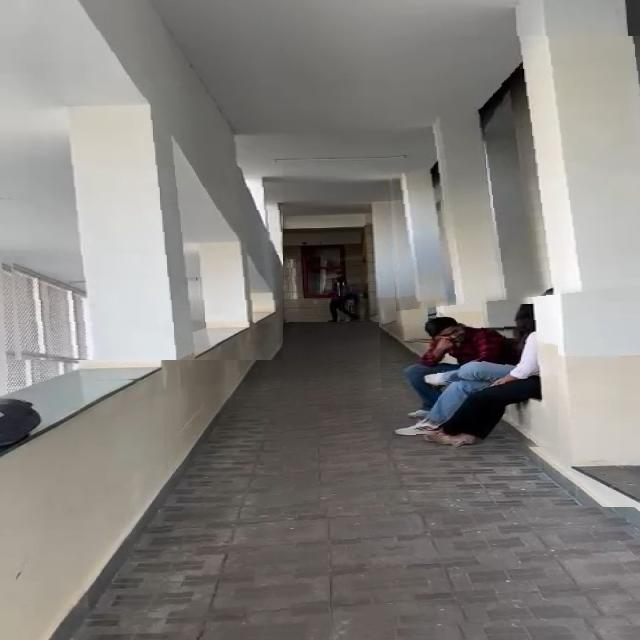floor: (152, 507, 640, 639), (283, 322, 398, 513)
moving_object: (379, 304, 558, 454)
wall: (0, 18, 283, 360), (376, 36, 640, 311)
